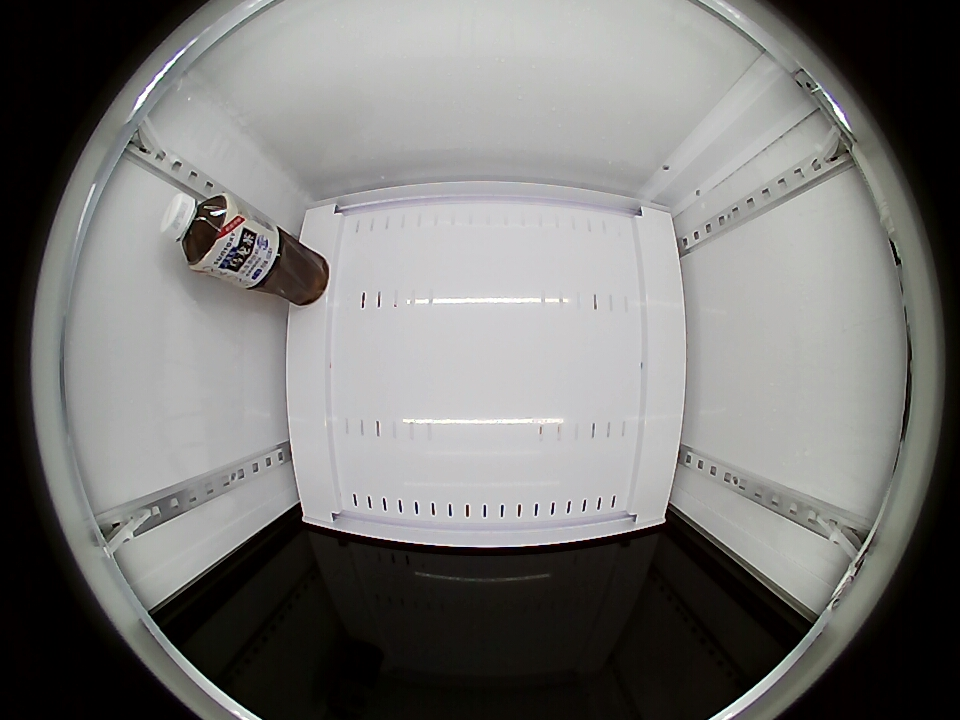wulongcha: (159, 192, 241, 270)
